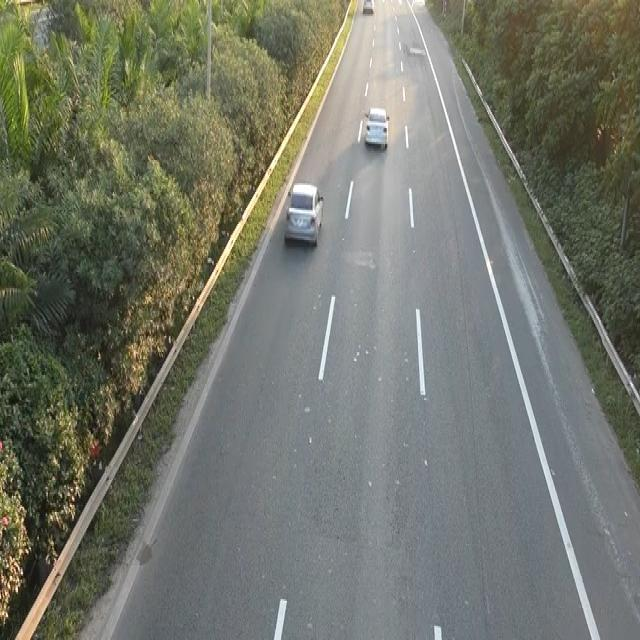bus: (283, 178, 324, 247), (362, 103, 390, 151)
